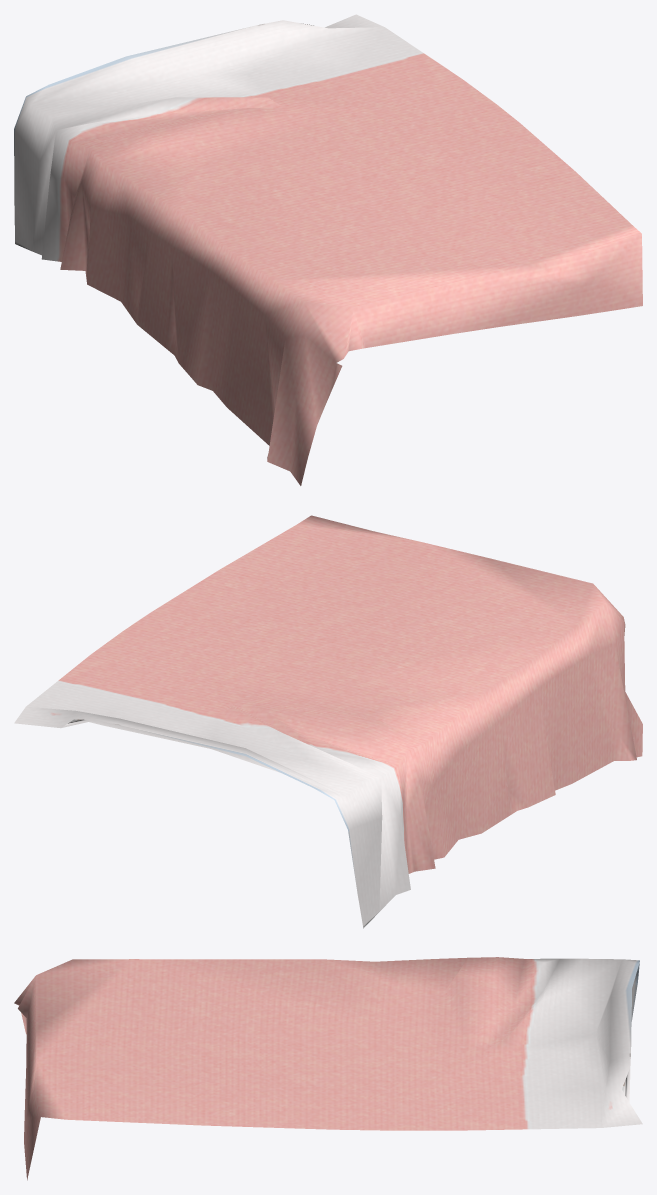
The model's file is SM_prop_Stage1_Blenket.fbx.
3 renders of one model, top to bottom at view 1: azimuth 30°, elevation 25°; view 2: azimuth 150°, elevation 25°; view 3: azimuth 270°, elevation 25°, orthographic. The views are drawn at different scales.
Visible parts, largest first — view 1: SM_prop_Stage1_Blenket; view 2: SM_prop_Stage1_Blenket; view 3: SM_prop_Stage1_Blenket.
Part boxes in pixels (left/top/right/bottom): SM_prop_Stage1_Blenket: left=14, top=14, right=642, bottom=485; SM_prop_Stage1_Blenket: left=14, top=515, right=642, bottom=928; SM_prop_Stage1_Blenket: left=14, top=957, right=642, bottom=1180.
Bounding box in the file's own units: 104 × 48.48 × 147.
Materials: 1 (1 with a texture image).
